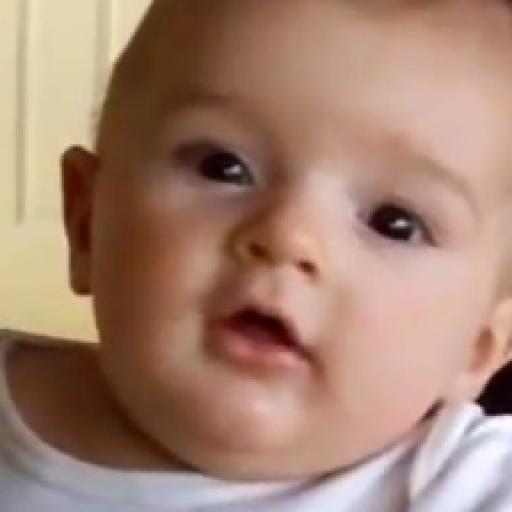Autism: (66, 27, 512, 512)
